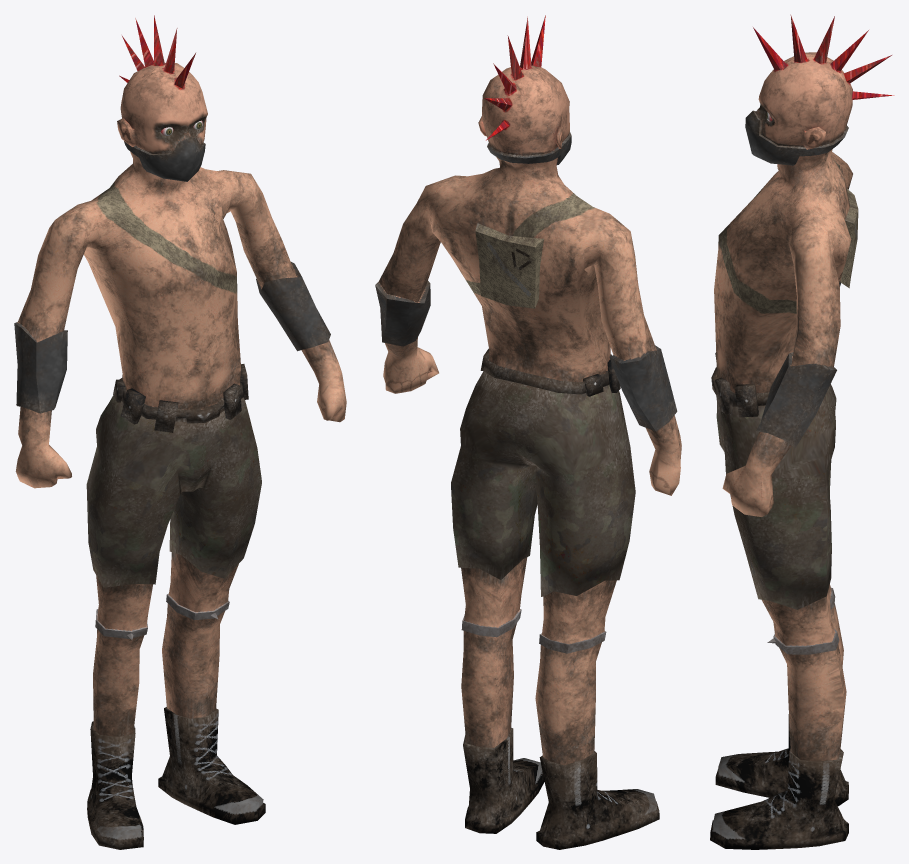
Rendered from Anim_disparar_ametralladora_npc2.0040.obj.
3 views of the same model, side by side, from view 1: azimuth 30°, elevation 25°; view 2: azimuth 150°, elevation 25°; view 3: azimuth 270°, elevation 25° (orthographic). The views are drawn at different scales.
Parts seen in each view (by area): view 1: polySurface1; view 2: polySurface1; view 3: polySurface1.
Part boxes in pixels (box(x1,y1,x2,y2)): polySurface1: box(14, 15, 346, 849); polySurface1: box(375, 15, 681, 849); polySurface1: box(710, 14, 894, 849).
Bounding box in the file's own units: 4.21 × 10.17 × 2.11.
